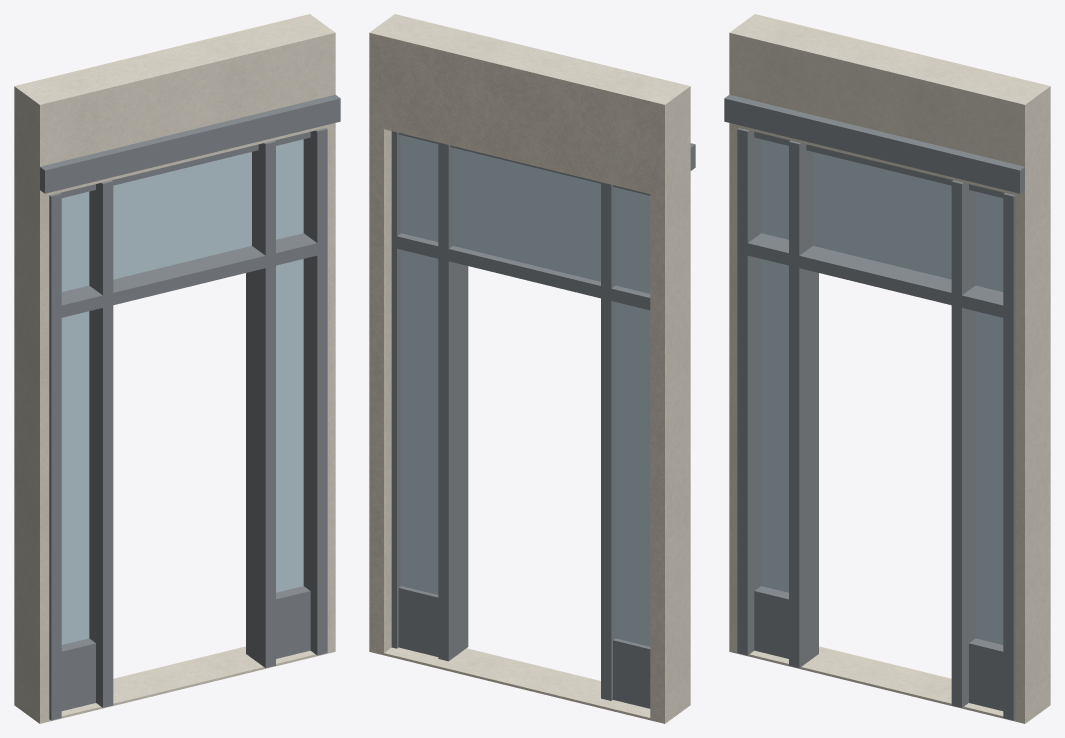
The model's file is storefront_door.glb.
The picture shows the model from 3 angles, left to right: view 1: azimuth 30°, elevation 25°; view 2: azimuth 150°, elevation 25°; view 3: azimuth 330°, elevation 25°; orthographic projection.
Parts seen in each view (by area): view 1: storefront_door_shopframe, storefront_door_panel, storefront_door_glass, storefront_door_plaster; view 2: storefront_door_plaster, storefront_door_glass, storefront_door_shopframe, storefront_door_panel; view 3: storefront_door_shopframe, storefront_door_panel, storefront_door_glass, storefront_door_plaster.
Boxes of the visible parts, bbox=[...] form: storefront_door_shopframe: bbox=[40, 94, 340, 720]; storefront_door_panel: bbox=[16, 15, 335, 723]; storefront_door_glass: bbox=[61, 139, 303, 644]; storefront_door_plaster: bbox=[14, 14, 311, 706]; storefront_door_plaster: bbox=[369, 31, 666, 723]; storefront_door_glass: bbox=[401, 135, 650, 646]; storefront_door_shopframe: bbox=[391, 131, 695, 708]; storefront_door_panel: bbox=[371, 14, 690, 722]; storefront_door_shopframe: bbox=[724, 94, 1024, 720]; storefront_door_panel: bbox=[729, 15, 1048, 723]; storefront_door_glass: bbox=[761, 139, 1003, 644]; storefront_door_plaster: bbox=[753, 14, 1050, 706].
Bounding box in the file's own units: 2 × 4 × 0.36.
Materials: 4 (2 with a texture image).
